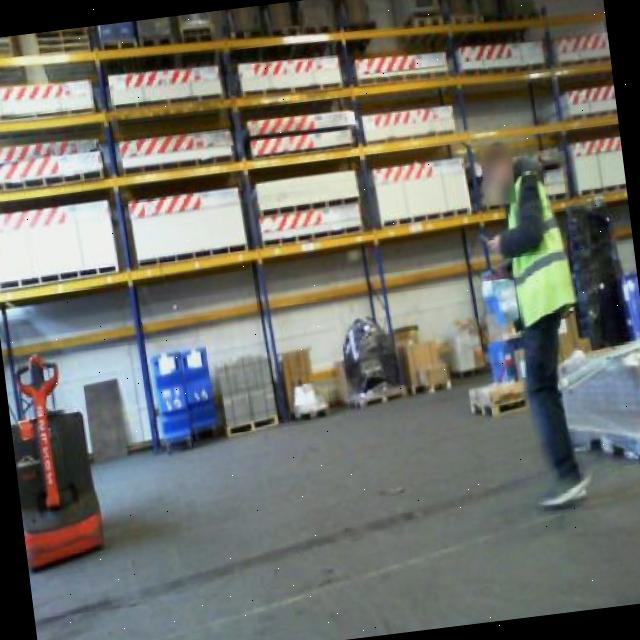pallet: (467, 384, 538, 426), (343, 379, 414, 413), (222, 406, 285, 442), (398, 7, 454, 34), (215, 23, 268, 45), (408, 373, 456, 397), (446, 7, 494, 30), (292, 18, 340, 40), (134, 30, 177, 54), (90, 34, 142, 53)
